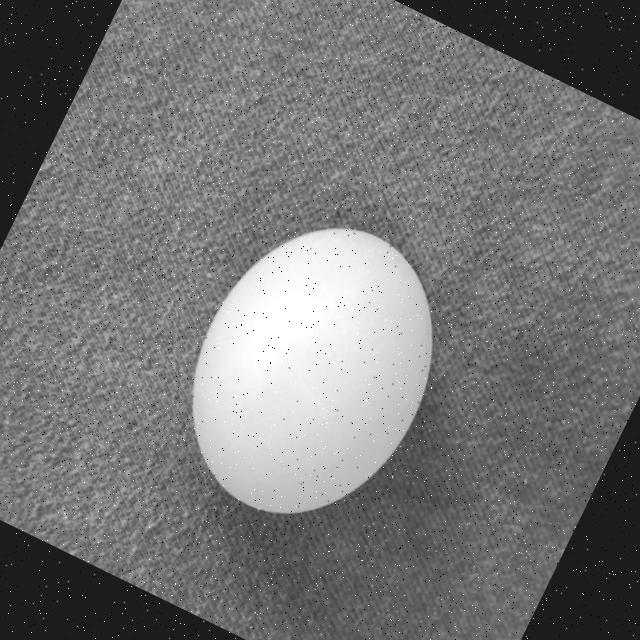ping-pong-ball: (125, 175, 486, 572)
